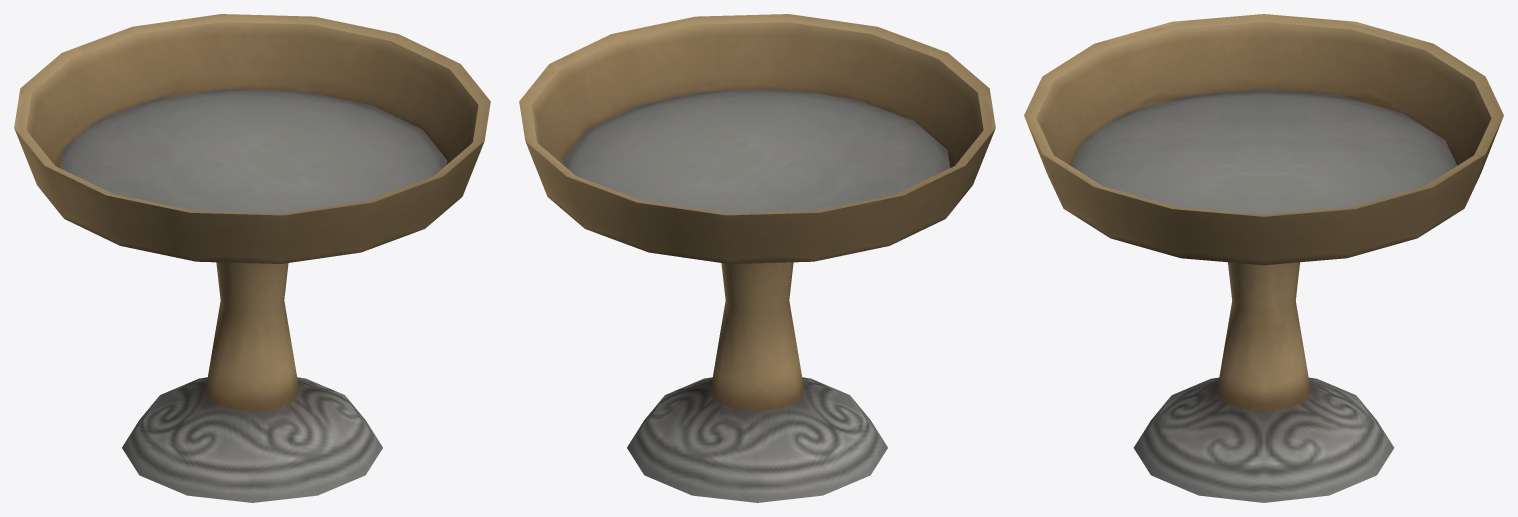
File: luxury_dish_02.fbx
3 renders of one model, left to right at view 1: azimuth 30°, elevation 25°; view 2: azimuth 150°, elevation 25°; view 3: azimuth 270°, elevation 25°, orthographic.
Visible parts, largest first — view 1: luxury_dish_02; view 2: luxury_dish_02; view 3: luxury_dish_02.
Part boxes in pixels (box(x1,y1,x2,y2)): luxury_dish_02: box(14, 14, 490, 502); luxury_dish_02: box(519, 14, 995, 502); luxury_dish_02: box(1024, 14, 1503, 502).
Bounding box in the file's own units: 40.89 × 31.24 × 40.89.
